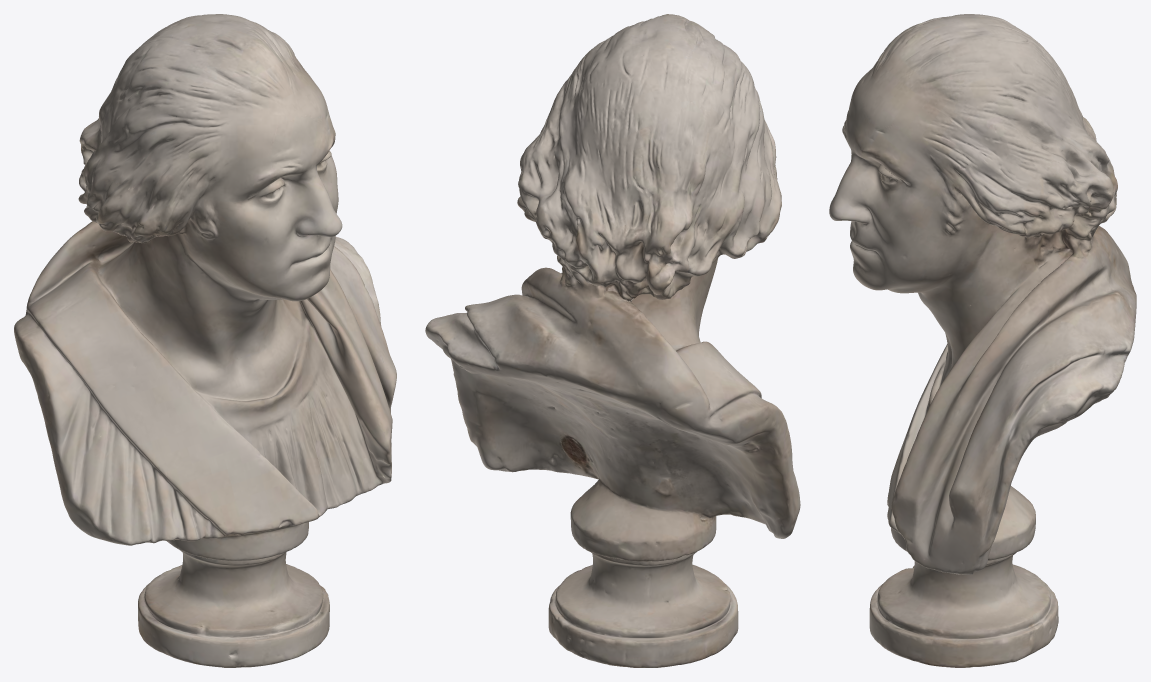
Rendered from bust_2.glb.
3 views of the same model, side by side, from view 1: azimuth 30°, elevation 25°; view 2: azimuth 150°, elevation 25°; view 3: azimuth 270°, elevation 25° (orthographic).
Visible parts, largest first — view 1: Mesh_0; view 2: Mesh_0; view 3: Mesh_0.
Part boxes in pixels (box(x1,y1,x2,y2)): Mesh_0: box(14, 14, 396, 667); Mesh_0: box(425, 14, 800, 667); Mesh_0: box(829, 14, 1136, 667).
Size of the model in its own units: 0.3182 by 0.548 by 0.2548.
1 material, 1 textured.
